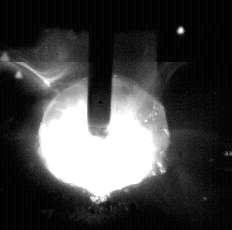arame: (88, 0, 112, 137)
poca: (38, 0, 172, 230)
